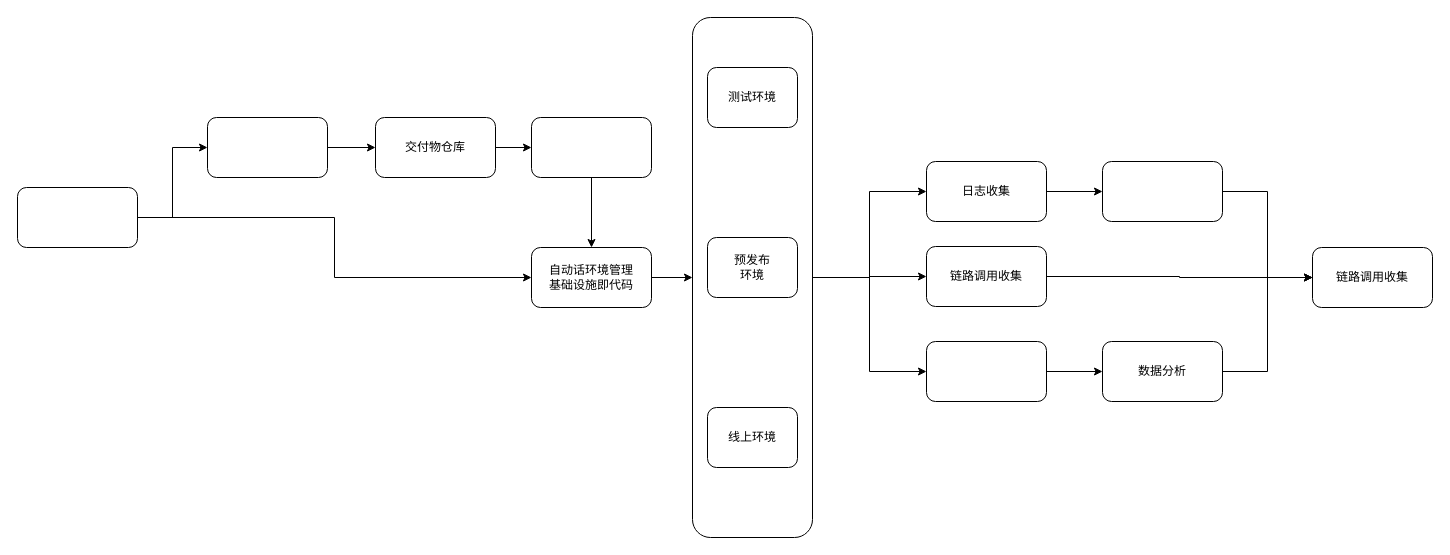
Some shapes in this 1450 by 555 pixel diagram are drawn without their labels. Each missing label, with the centre of its shape:
CD 持续部署: (591,147)
CI 持续集成: (267,147)
业务数据收集: (986,371)
版本控制: (77,217)
监控告警: (1162,191)
